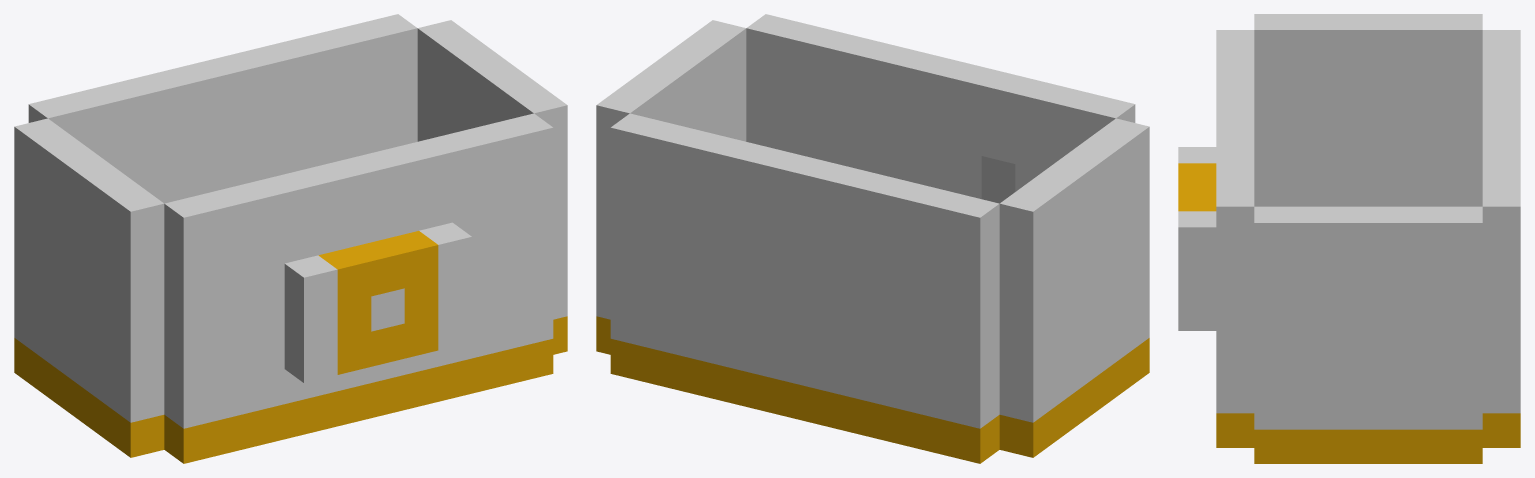
The model's file is accessories_clothes_tshirt2.glb.
The picture shows the model from 3 angles, left to right: view 1: azimuth 30°, elevation 25°; view 2: azimuth 150°, elevation 25°; view 3: azimuth 270°, elevation 25°; orthographic projection. The views are drawn at different scales.
Parts seen in each view (by area): view 1: model_0; view 2: model_0; view 3: model_0.
Boxes of the visible parts, box(x1,y1,x2,y2) form: model_0: box(14, 14, 567, 463); model_0: box(596, 14, 1149, 463); model_0: box(1178, 14, 1520, 463).
Size of the model in its own units: 13 by 7 by 9.
